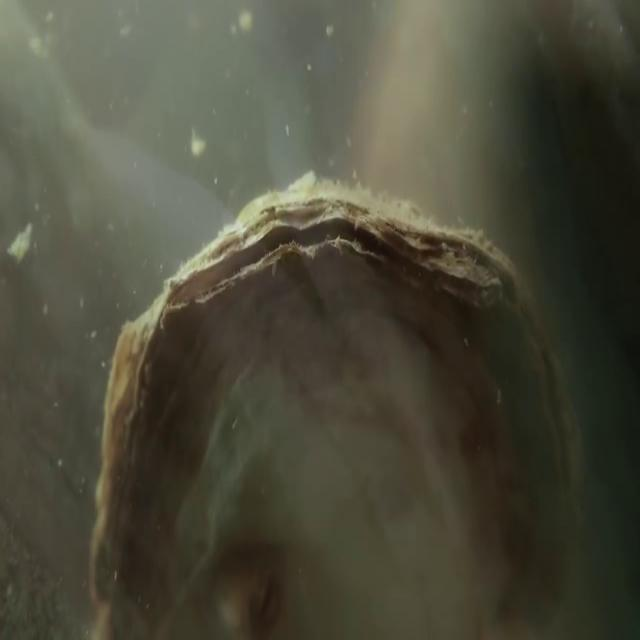Oyster-Closed: (76, 165, 593, 634)
